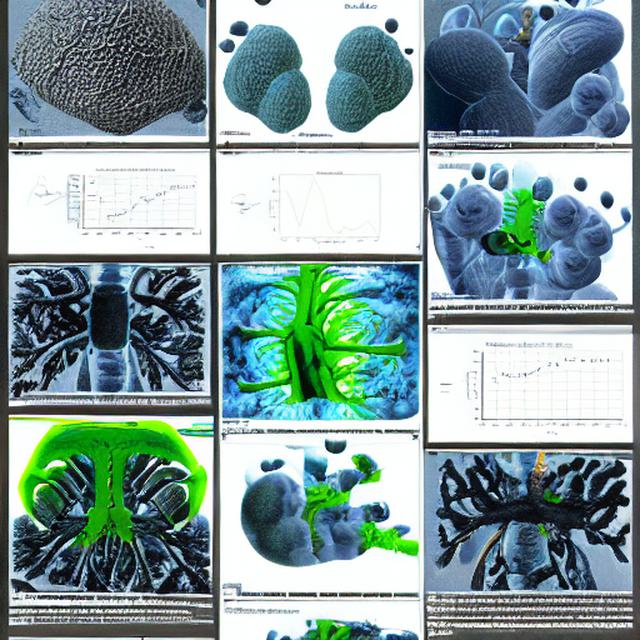Graph: (459, 335, 631, 439), (263, 161, 393, 250), (64, 166, 201, 242)
